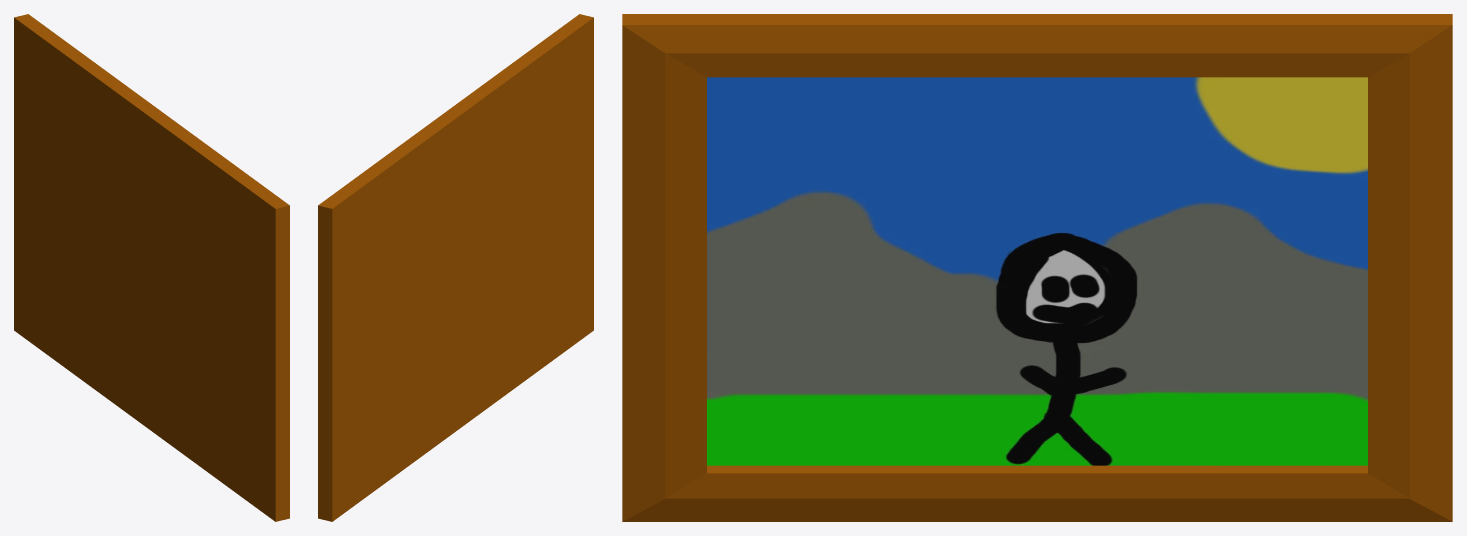
The model's file is VirtualPainting-transformed.glb.
The picture shows the model from 3 angles, left to right: view 1: azimuth 30°, elevation 25°; view 2: azimuth 150°, elevation 25°; view 3: azimuth 270°, elevation 25°; orthographic projection. The views are drawn at different scales.
Visible parts, largest first — view 1: Cube; view 2: Cube; view 3: Cube.
Part boxes in pixels (x1,y1,x2,y2): Cube: (14, 14, 289, 521); Cube: (318, 14, 593, 521); Cube: (622, 14, 1452, 521).
Bounding box in the file's own units: 0.1173 × 2 × 3.03.
1 material, 1 textured.
